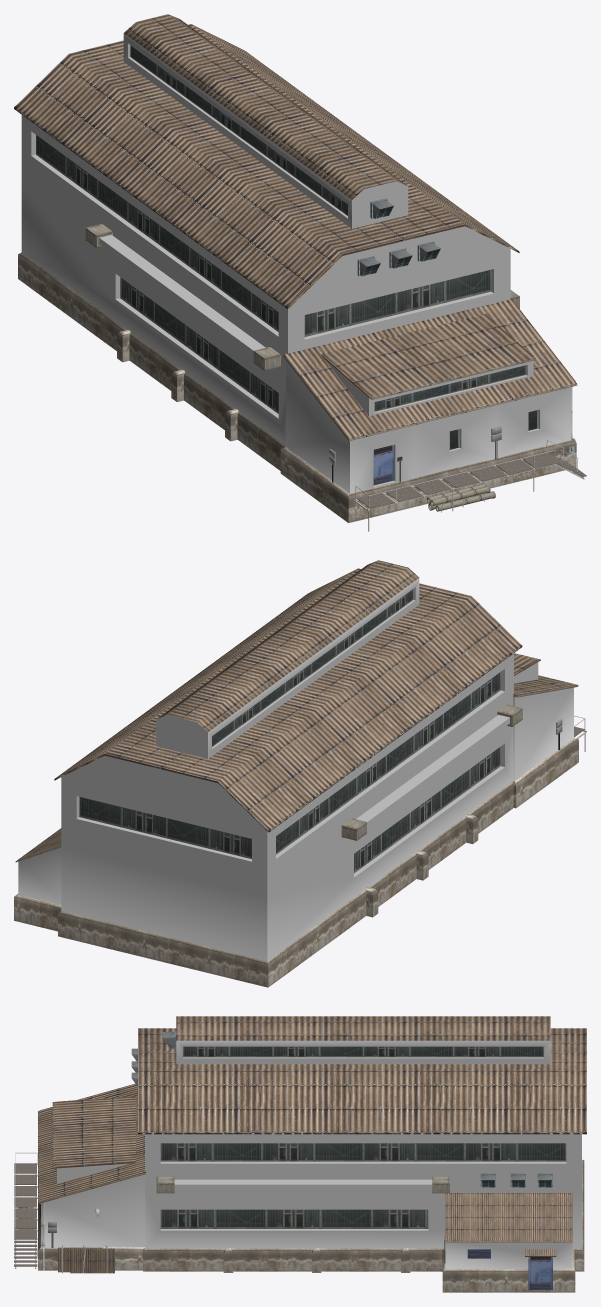
The model's file is building7_lod1.fbx.
The picture shows the model from 3 angles, top to bottom: view 1: azimuth 30°, elevation 25°; view 2: azimuth 150°, elevation 25°; view 3: azimuth 270°, elevation 25°; orthographic projection. The views are drawn at different scales.
Parts seen in each view (by area): view 1: Mesh Object_ncl1_6, Mesh Object, Mesh Object_ncl1_8, Mesh Object_ncl1_1, Mesh Object_ncl1_5; view 2: Mesh Object_ncl1_6, Mesh Object, Mesh Object_ncl1_7, Mesh Object_ncl1_8; view 3: Mesh Object_ncl1_6, Mesh Object, Mesh Object_ncl1_7, Mesh Object_ncl1_8, Mesh Object_ncl1_1, Mesh Object_ncl1_3.
Boxes of the visible parts, x1,y1,x2,y2 form: Mesh Object_ncl1_6: [14, 14, 519, 470]; Mesh Object: [280, 298, 577, 523]; Mesh Object_ncl1_8: [85, 198, 519, 370]; Mesh Object_ncl1_1: [354, 439, 586, 531]; Mesh Object_ncl1_5: [426, 483, 495, 512]; Mesh Object_ncl1_6: [54, 560, 522, 987]; Mesh Object: [513, 653, 578, 808]; Mesh Object_ncl1_7: [14, 828, 61, 931]; Mesh Object_ncl1_8: [341, 704, 522, 840]; Mesh Object_ncl1_6: [138, 1016, 586, 1272]; Mesh Object: [38, 1083, 145, 1270]; Mesh Object_ncl1_7: [442, 1193, 575, 1292]; Mesh Object_ncl1_8: [131, 1030, 552, 1193]; Mesh Object_ncl1_1: [14, 1152, 37, 1268]; Mesh Object_ncl1_3: [58, 1244, 114, 1273].
Bounding box in the file's own units: 17.33 × 13.75 × 35.02.
